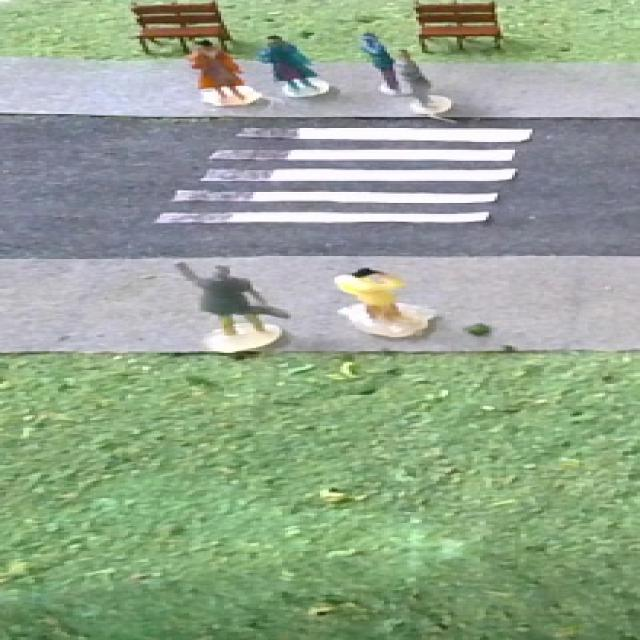person: (164, 251, 297, 358), (323, 258, 446, 341), (179, 34, 260, 110), (259, 29, 334, 101), (389, 46, 453, 116), (355, 29, 403, 98)
